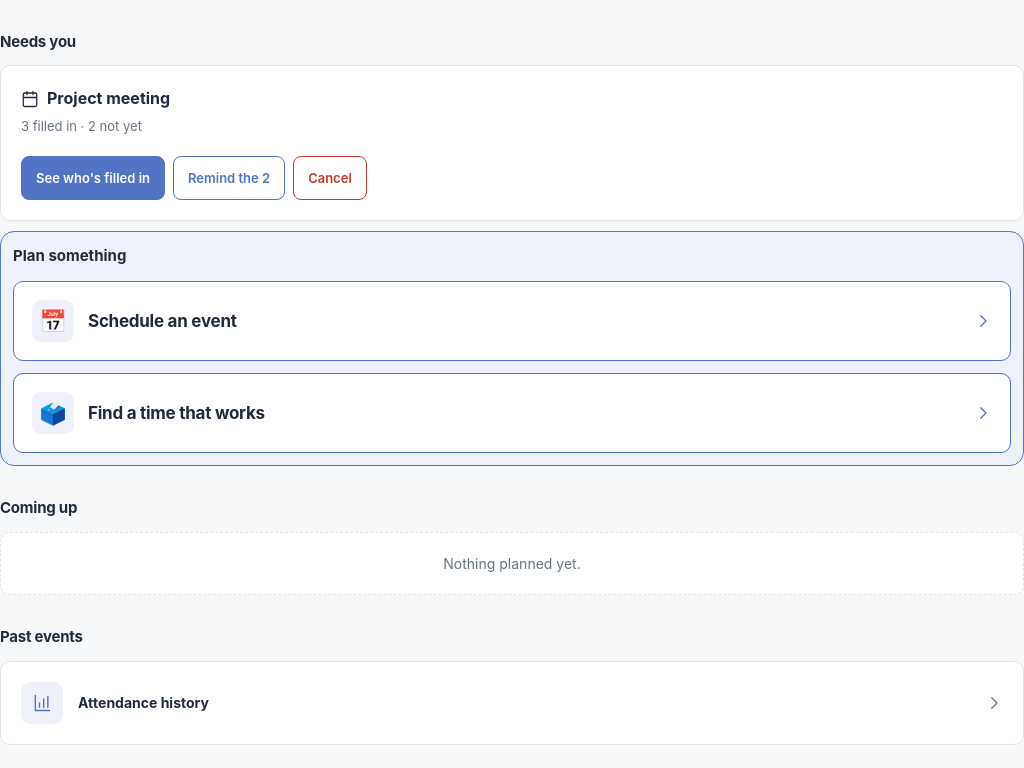
Scenario: organiser poll progress › keeps the organiser's poll on the page with progress and a reminder
Expected: the text "3 filled in · 2 not yet" is shown, [21, 118, 142, 134]
Click the button "Remind the 2". click: (229,178)
box: [173, 156, 285, 200]
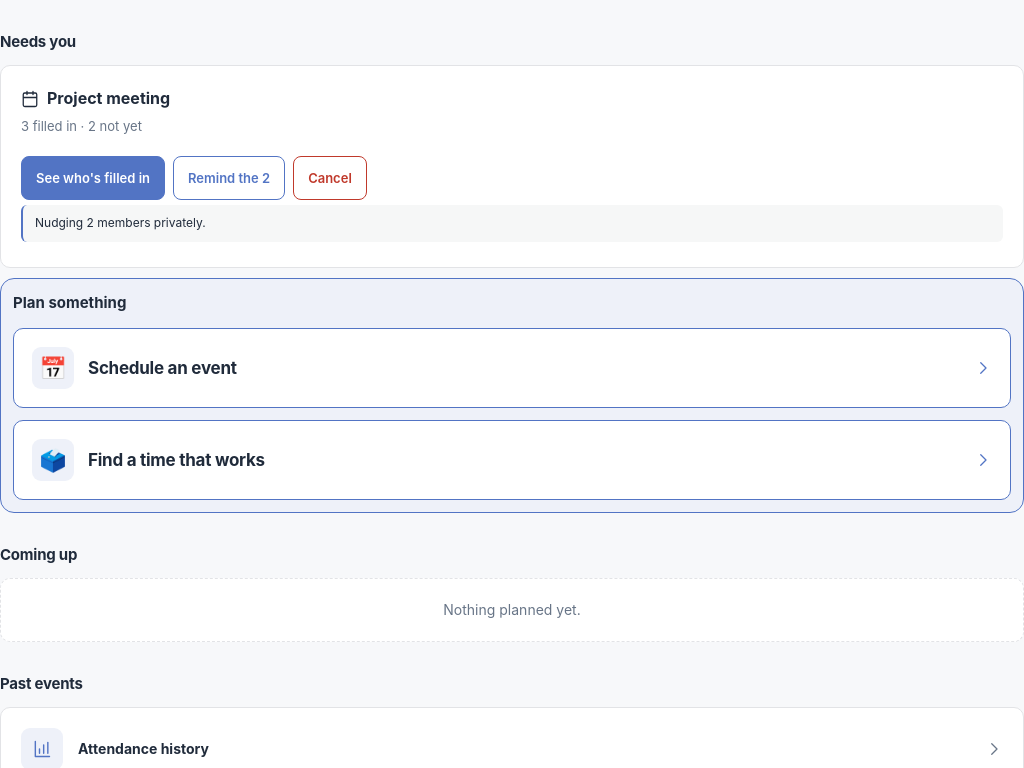
Now the text "Nudging 2 members privately." is shown, box [21, 205, 1003, 242]
